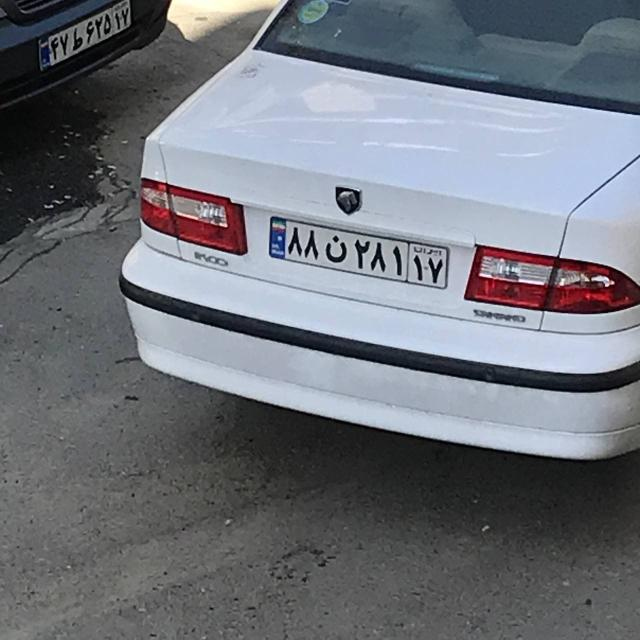Plates: (264, 218, 453, 289)
